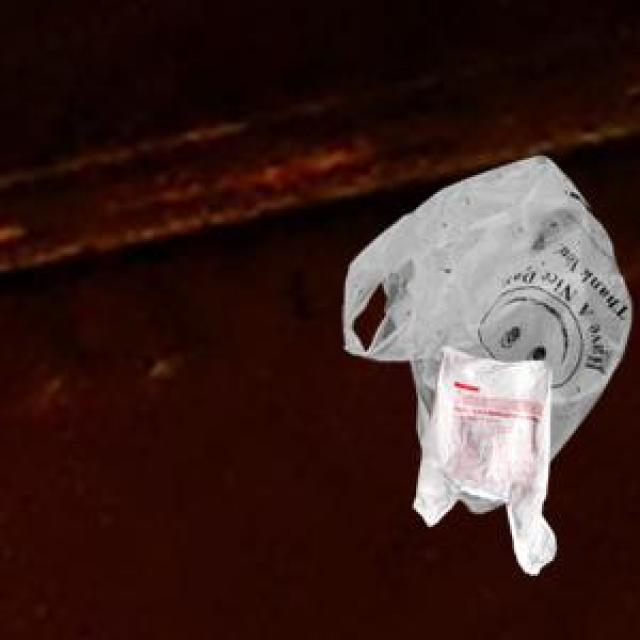plastic: (298, 129, 640, 590)
